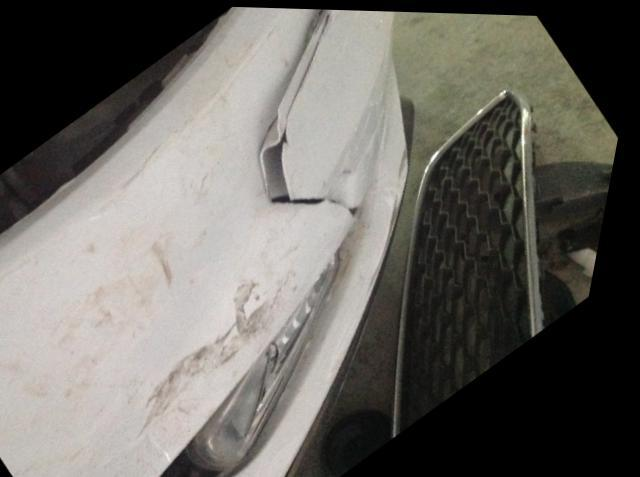crack: (252, 7, 398, 222)
no part: (0, 9, 226, 238)
rub: (151, 262, 316, 440), (46, 237, 204, 376)
